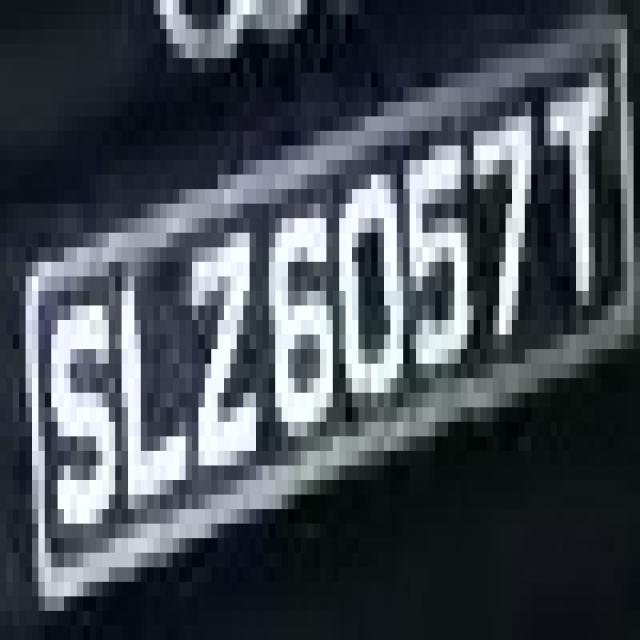0: (332, 145, 410, 422)
5: (391, 88, 474, 408)
6: (256, 189, 346, 466)
7: (448, 87, 550, 422)
L: (108, 247, 186, 524)
S: (32, 262, 122, 582)
T: (525, 44, 621, 349)
Z: (172, 204, 250, 509)
